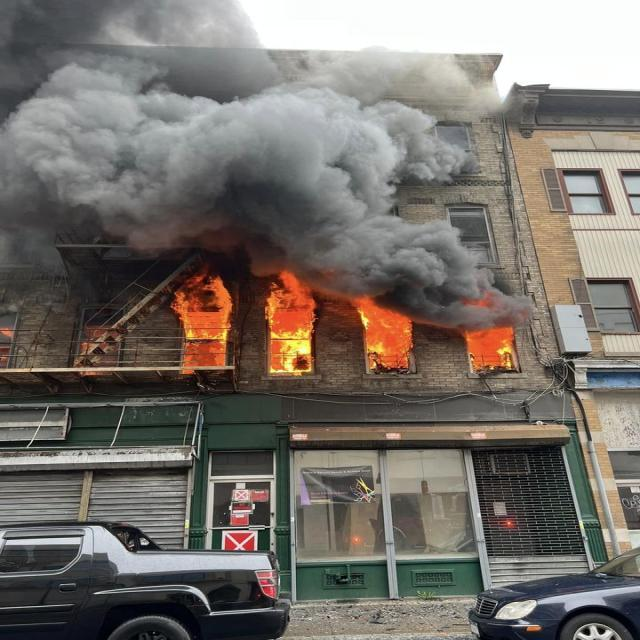Fire: (150, 258, 422, 370), (457, 310, 527, 368)
Smoke: (0, 0, 514, 314)
